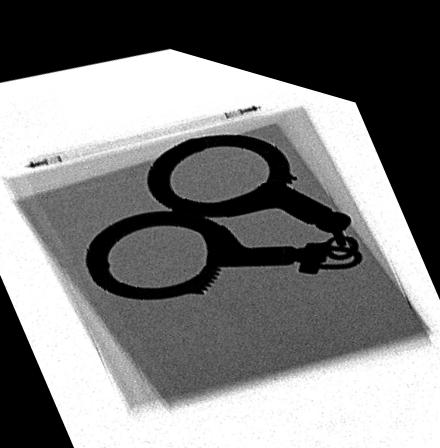HandCuffs: (85, 120, 362, 291)
